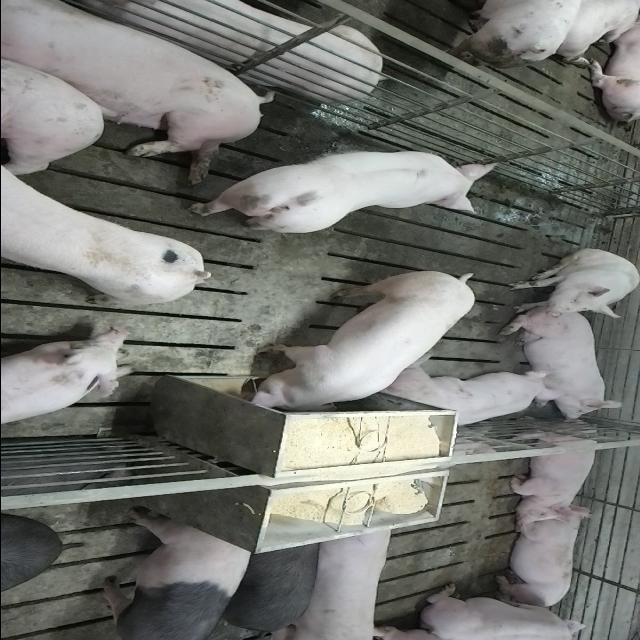Feeding: (240, 273, 476, 421)
Lateral_lying: (0, 2, 272, 184), (39, 0, 383, 102)
Sitting: (503, 249, 638, 319)
Standing: (2, 139, 214, 310), (176, 146, 506, 234), (92, 511, 256, 639), (272, 518, 397, 638), (217, 534, 323, 638)
Sternal_lying: (0, 333, 134, 433), (504, 314, 624, 424), (377, 368, 559, 430), (408, 584, 597, 638), (492, 510, 588, 610), (506, 426, 604, 520)
